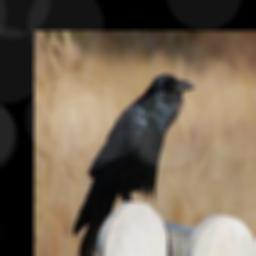Crow: (72, 74, 196, 256)
